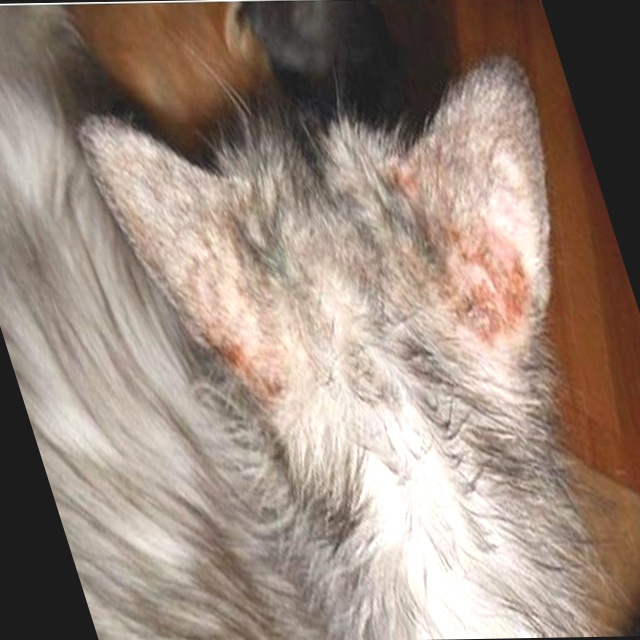ringworm: (391, 190, 556, 335), (175, 286, 293, 417)
